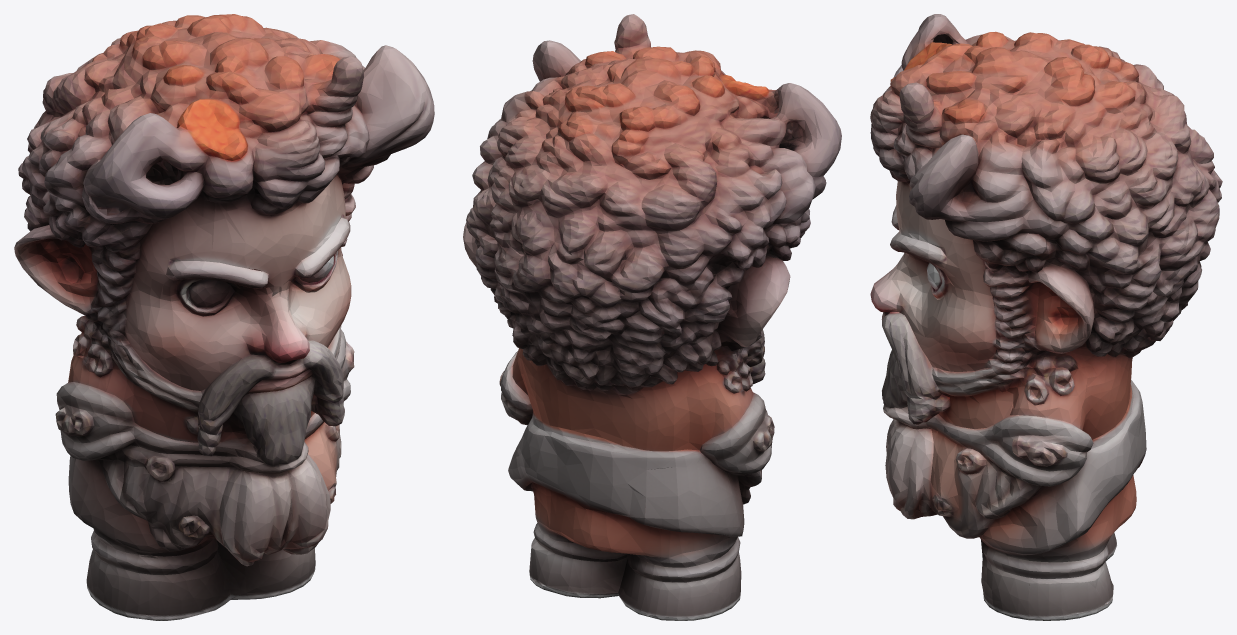
The model's file is statue_3.glb.
3 renders of one model, left to right at view 1: azimuth 30°, elevation 25°; view 2: azimuth 150°, elevation 25°; view 3: azimuth 270°, elevation 25°, orthographic. The views are drawn at different scales.
Visible parts, largest first — view 1: world; view 2: world; view 3: world.
Part boxes in pixels (x1,y1,x2,y2): world: (14, 14, 434, 620); world: (463, 14, 841, 620); world: (870, 14, 1222, 620).
Size of the model in its own units: 0.6543 by 0.9989 by 0.6053.
Materials: 1 (1 with a texture image).
